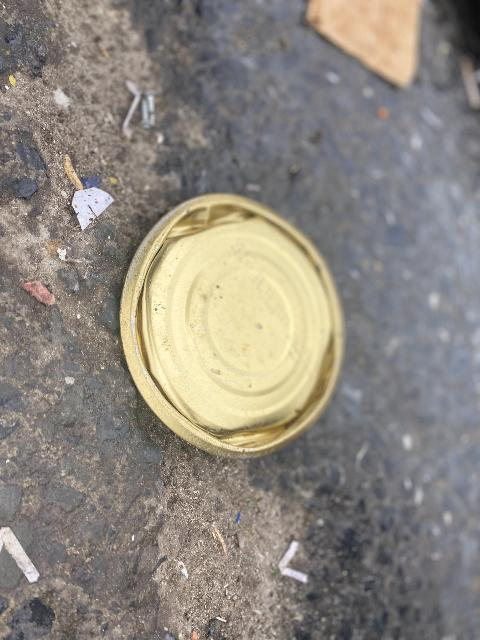Metal: (119, 191, 348, 462)
